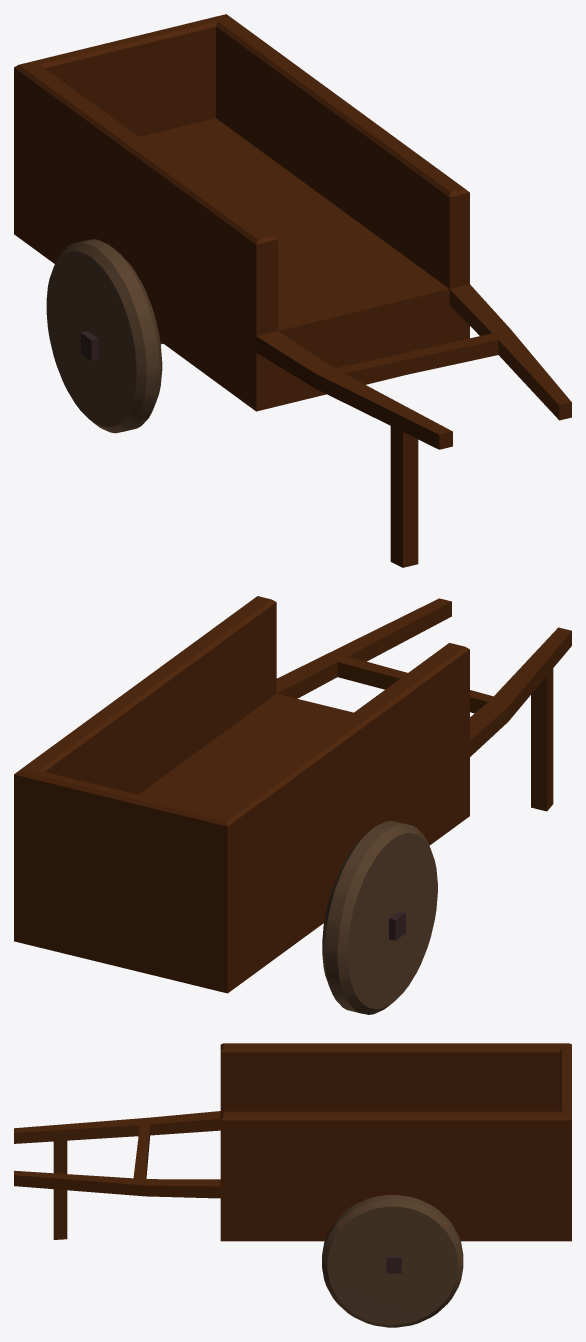
The model's file is Cart_VR.fbx.
The picture shows the model from 3 angles, top to bottom: view 1: azimuth 30°, elevation 25°; view 2: azimuth 150°, elevation 25°; view 3: azimuth 270°, elevation 25°; orthographic projection. The views are drawn at different scales.
Parts seen in each view (by area): view 1: Cart_VR:pCube1, Cart_VR:pCylinder2; view 2: Cart_VR:pCube1, Cart_VR:pCylinder2; view 3: Cart_VR:pCube1, Cart_VR:pCylinder1.
Boxes of the visible parts, x1,y1,x2,y2 form: Cart_VR:pCube1: [14, 14, 571, 567]; Cart_VR:pCylinder2: [46, 239, 162, 433]; Cart_VR:pCube1: [14, 596, 571, 993]; Cart_VR:pCylinder2: [322, 821, 437, 1014]; Cart_VR:pCube1: [14, 1043, 571, 1241]; Cart_VR:pCylinder1: [322, 1195, 463, 1327].
Bounding box in the file's own units: 18.18 × 15.15 × 38.91.
